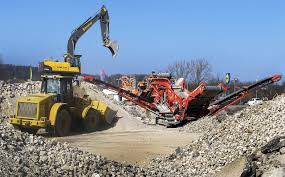excavator: (8, 5, 120, 138)
